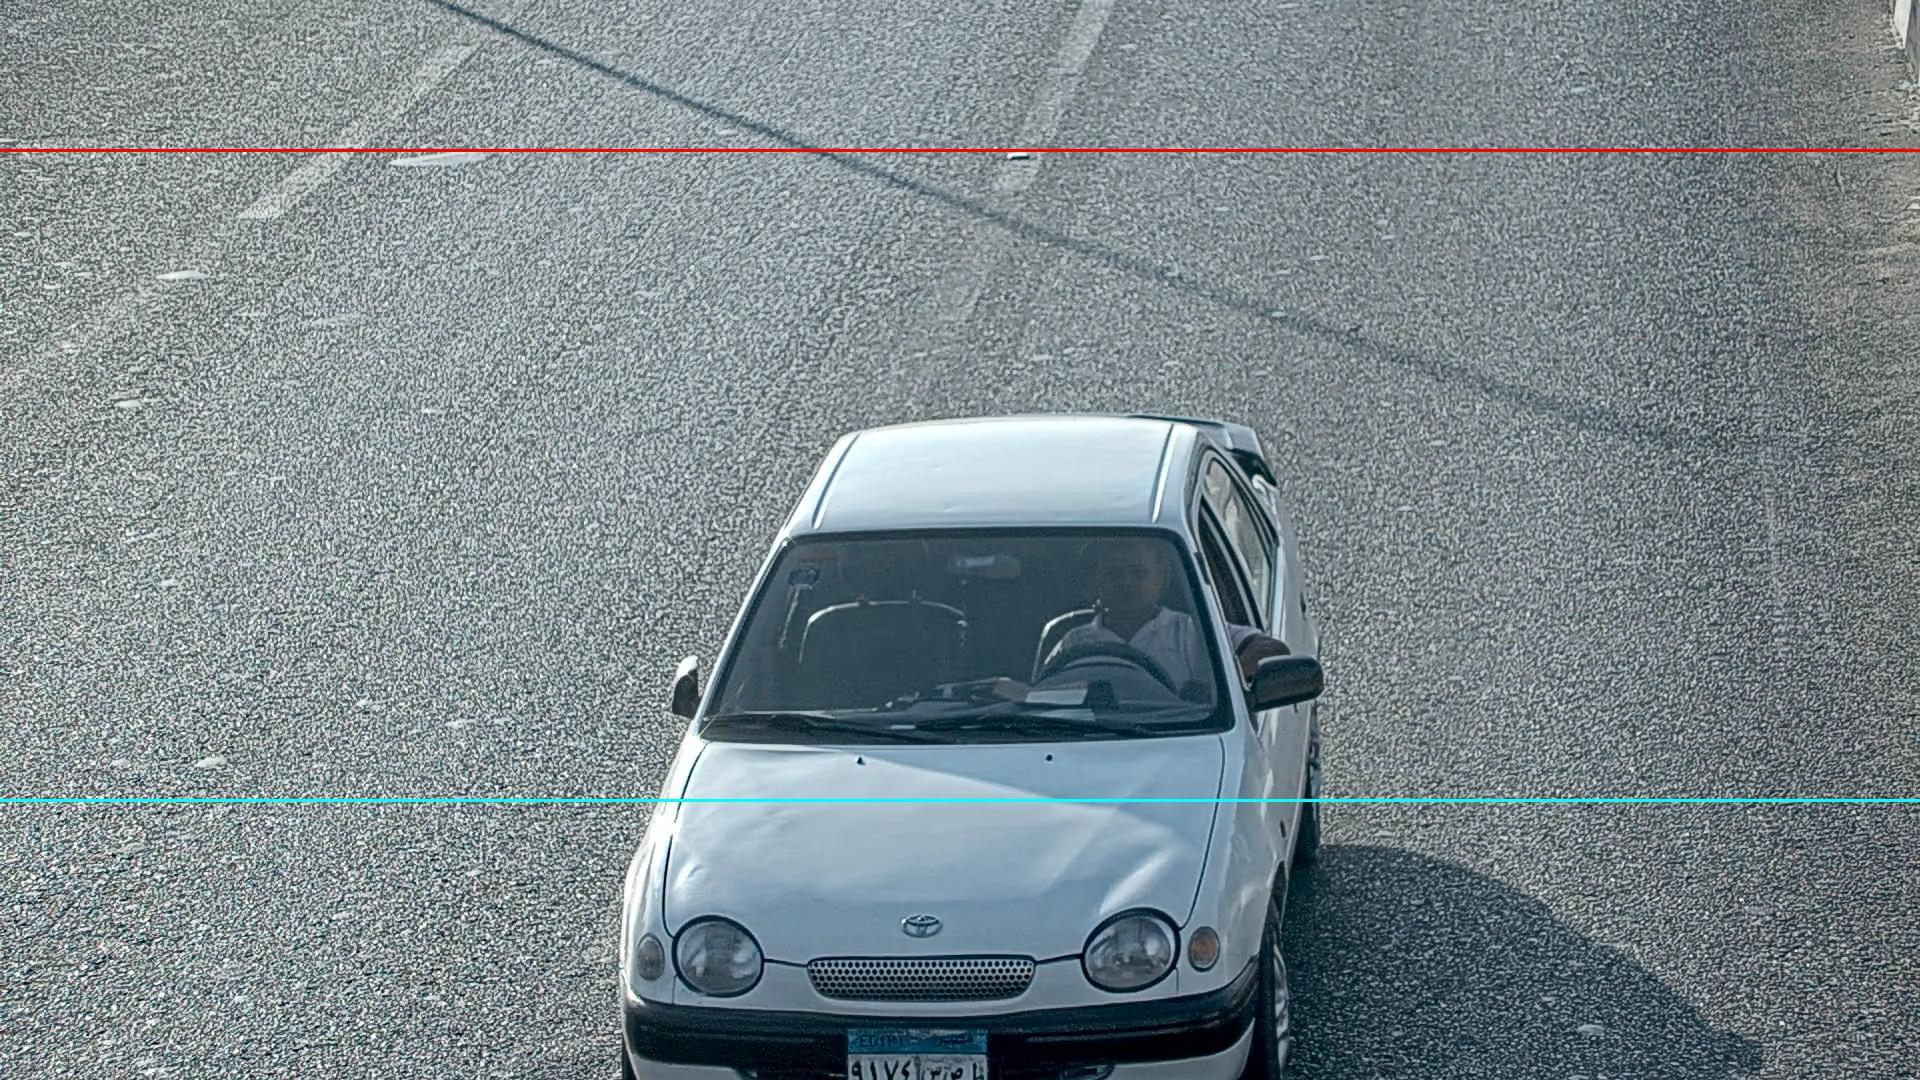windshield: (687, 520, 1241, 746)
